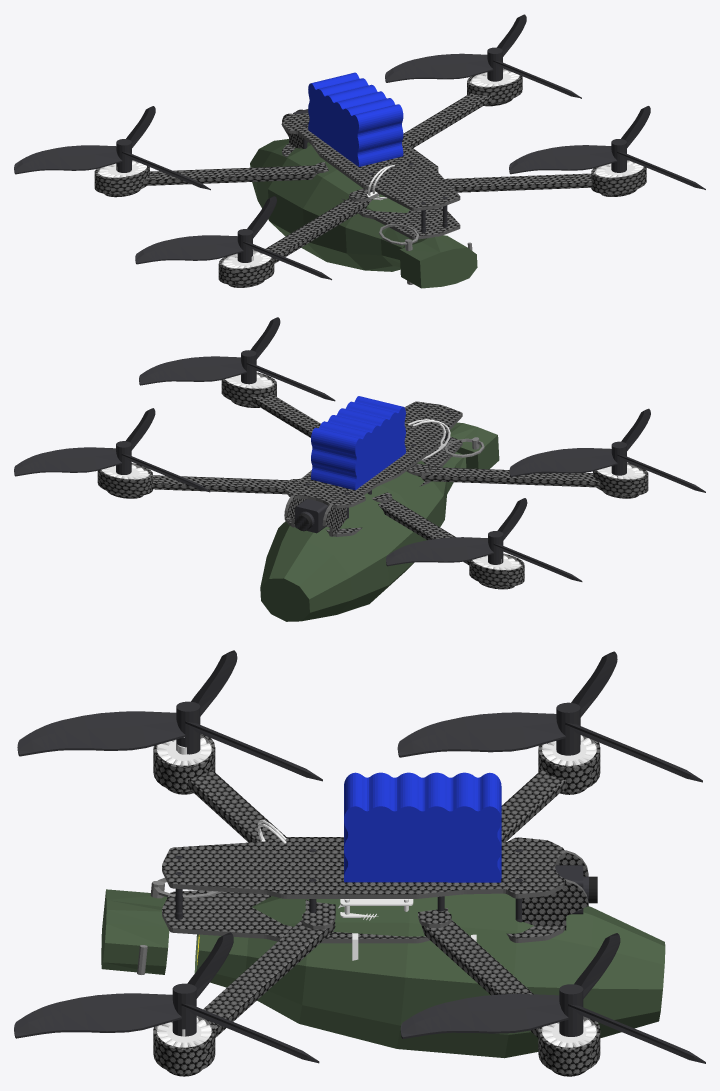
File: dron3.glb
3 views of the same model, one above another, from view 1: azimuth 30°, elevation 25°; view 2: azimuth 150°, elevation 25°; view 3: azimuth 270°, elevation 25° (orthographic). The views are drawn at different scales.
Visible parts, largest first — view 1: object 9, Circle, object 10, wirt2, wirt1, wirt3, wirt4, Object_Material.003_0; view 2: object 9, Circle, object 10, wirt3, wirt2, wirt1, wirt4, Object_Material.003_0, object 7; view 3: Circle, object 9, object 10, wirt3, wirt2, wirt1, wirt4, Object_Material.003_0, object 7, object 8.
Part boxes in pixels (box(x1,y1,x2,y2)): object 9: box(94, 68, 646, 287); Circle: box(250, 139, 477, 288); object 10: box(308, 72, 403, 166); wirt2: box(509, 106, 705, 189); wirt1: box(385, 14, 581, 98); wirt3: box(14, 106, 210, 190); wirt4: box(135, 196, 331, 280); Object_Material.003_0: box(98, 69, 643, 268); object 9: box(97, 372, 648, 589); Circle: box(260, 422, 499, 621); object 10: box(311, 396, 405, 490); wirt3: box(386, 498, 582, 581); wirt2: box(139, 317, 335, 401); wirt1: box(14, 408, 210, 492); wirt4: box(509, 408, 705, 492); Object_Material.003_0: box(101, 373, 645, 570); object 7: box(294, 499, 328, 533); Circle: box(101, 877, 665, 1058); object 9: box(153, 734, 600, 1076); object 10: box(344, 772, 501, 882); wirt3: box(397, 651, 702, 782); wirt2: box(14, 932, 319, 1063); wirt1: box(400, 933, 705, 1063); wirt4: box(17, 650, 322, 781); Object_Material.003_0: box(156, 735, 596, 1047); object 7: box(555, 865, 597, 914); object 8: box(175, 848, 522, 922).
Size of the model in its own units: 13.85 by 4.12 by 9.9.
Materials: 12 (7 with a texture image).
